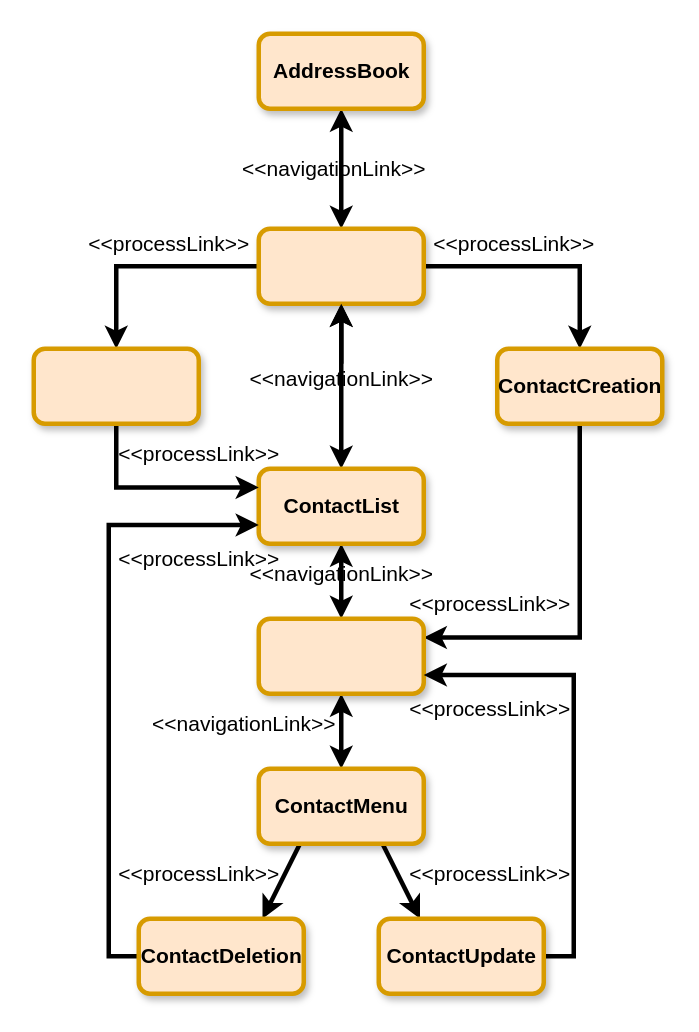
Some shapes in this 699 by 1032 pixel diagram are drawn without their labels. The shapes that lost their labels are listed below. From the top down, each one's centre as x and y in pixels, then its label:
At point 342,268: "MainMenu".
At point 117,388: "Search".
At point 342,658: "Contact".
